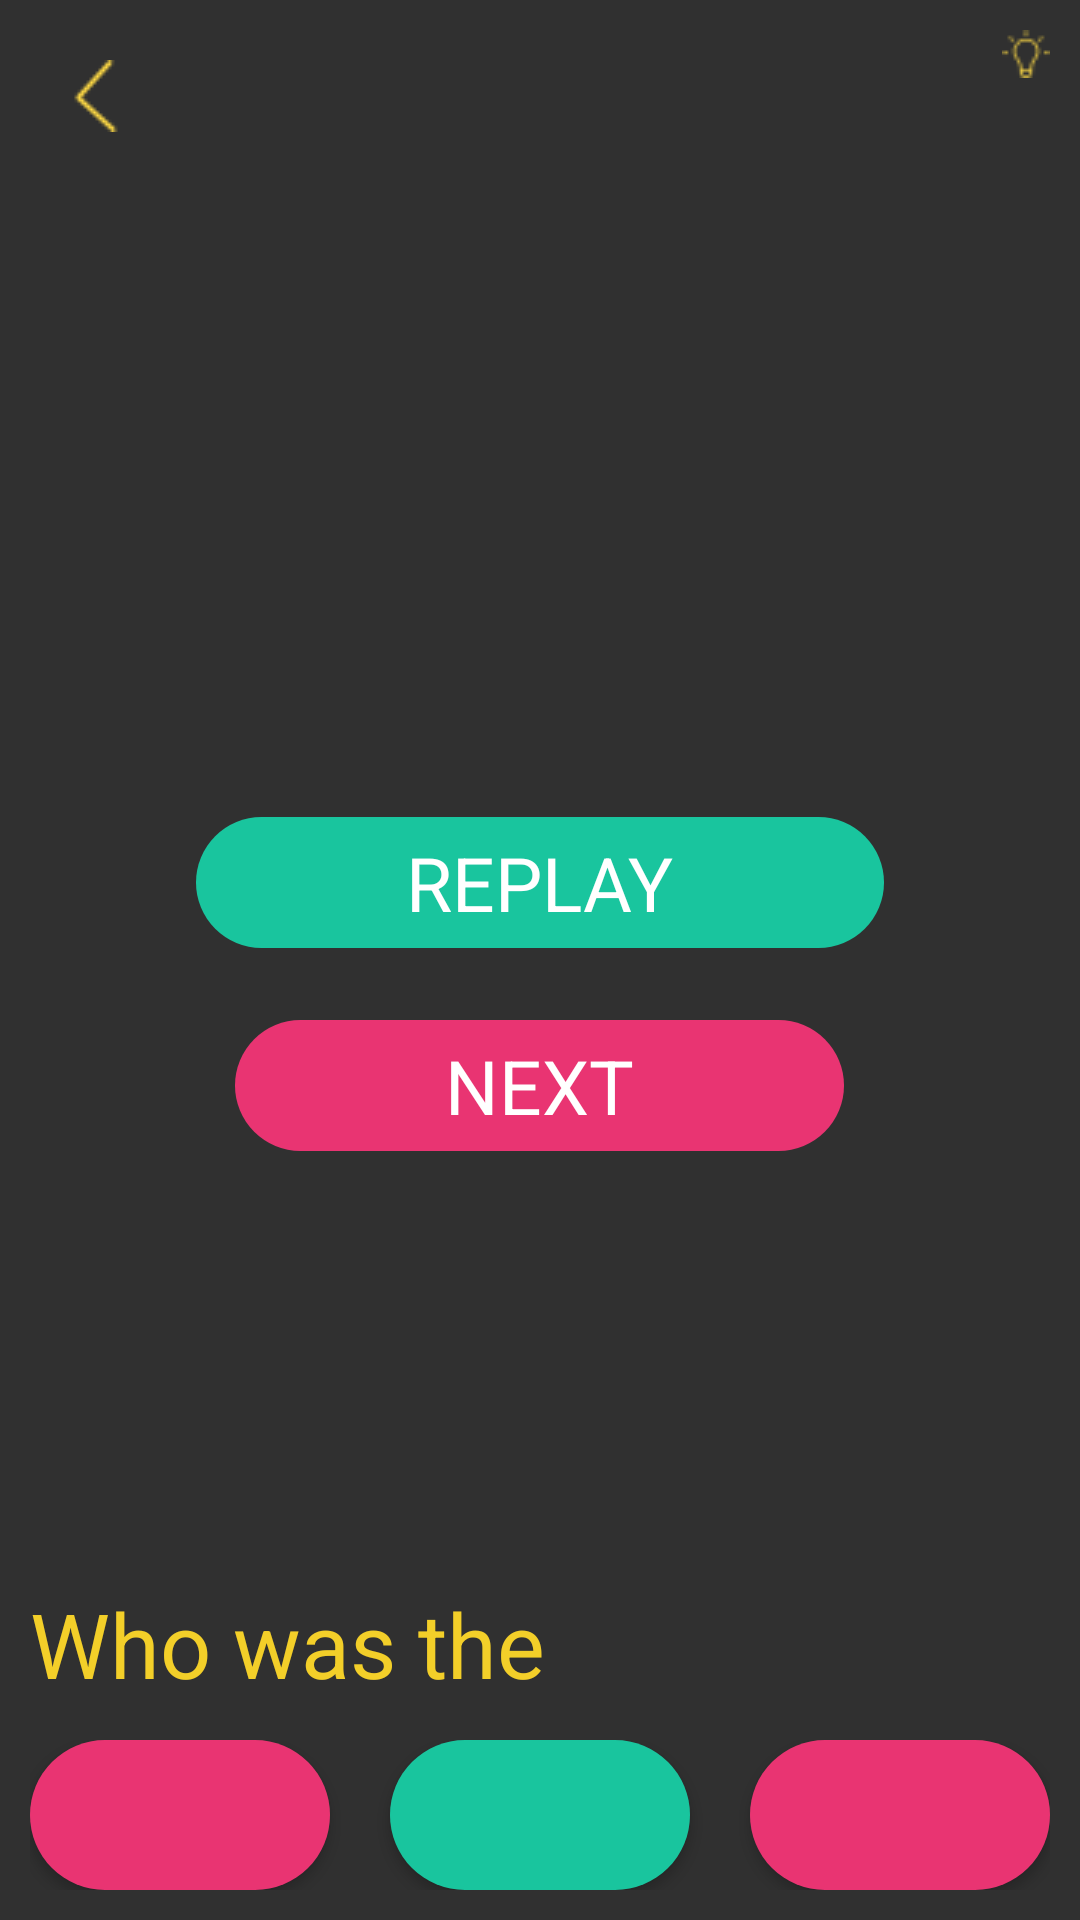

Locate icon controls on the screen. Image size 1080×1920, boxes as (x1, y1, x2, y2).
arrow: (74, 60, 117, 132)
lightbulb: (1002, 30, 1050, 78)
